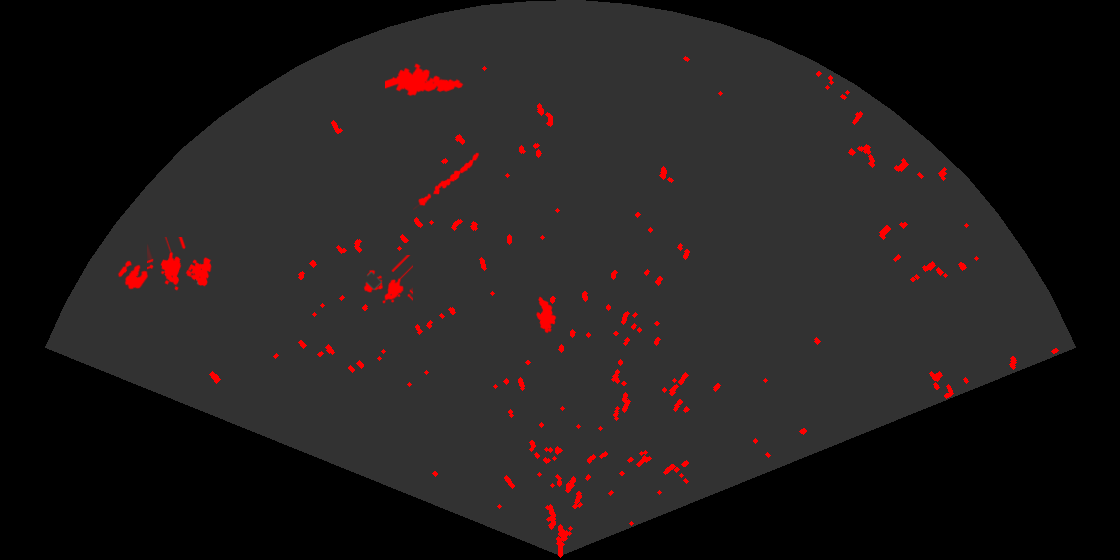AUV: (535, 295, 558, 335)
ball: (116, 259, 150, 291)
cage: (147, 237, 213, 292), (362, 255, 413, 305)
chain: (413, 151, 481, 212)
frogman: (385, 62, 465, 98)
